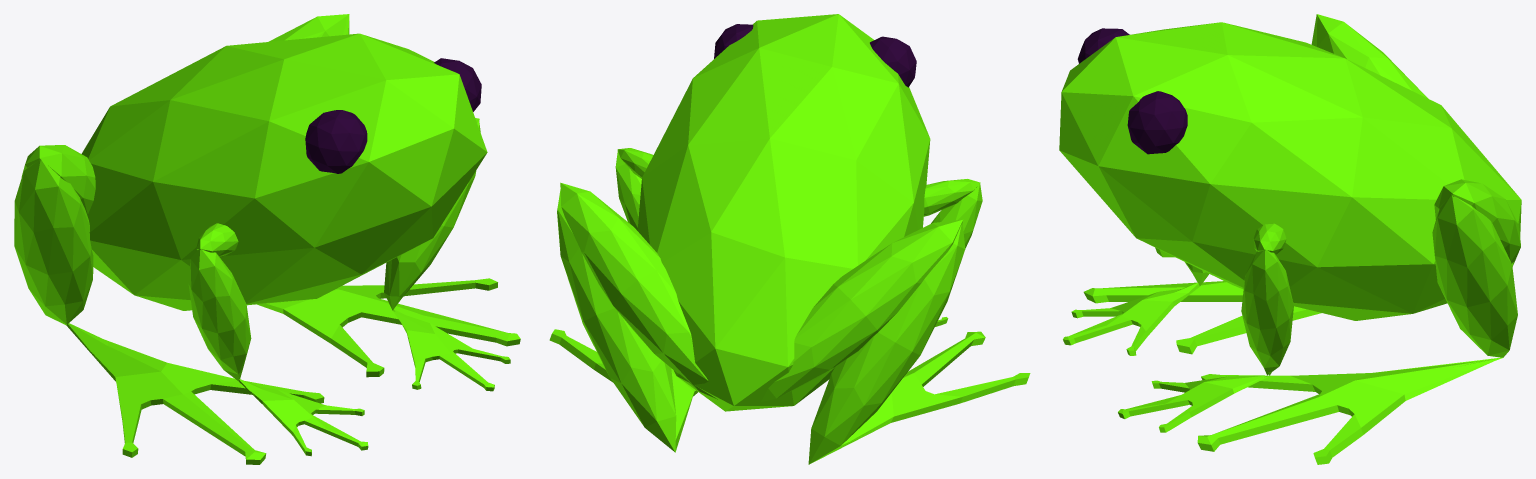
File: Frog.fbx
3 renders of one model, left to right at view 1: azimuth 30°, elevation 25°; view 2: azimuth 150°, elevation 25°; view 3: azimuth 270°, elevation 25°, orthographic. The views are drawn at different scales.
Visible parts, largest first — view 1: Frog_-_Solidified; view 2: Frog_-_Solidified; view 3: Frog_-_Solidified.
Boxes of the visible parts, left/top/right/bottom form: Frog_-_Solidified: left=14, top=14, right=520, bottom=464; Frog_-_Solidified: left=549, top=14, right=1030, bottom=464; Frog_-_Solidified: left=1059, top=14, right=1521, bottom=464.
Size of the model in its own units: 114 by 79.95 by 101.
